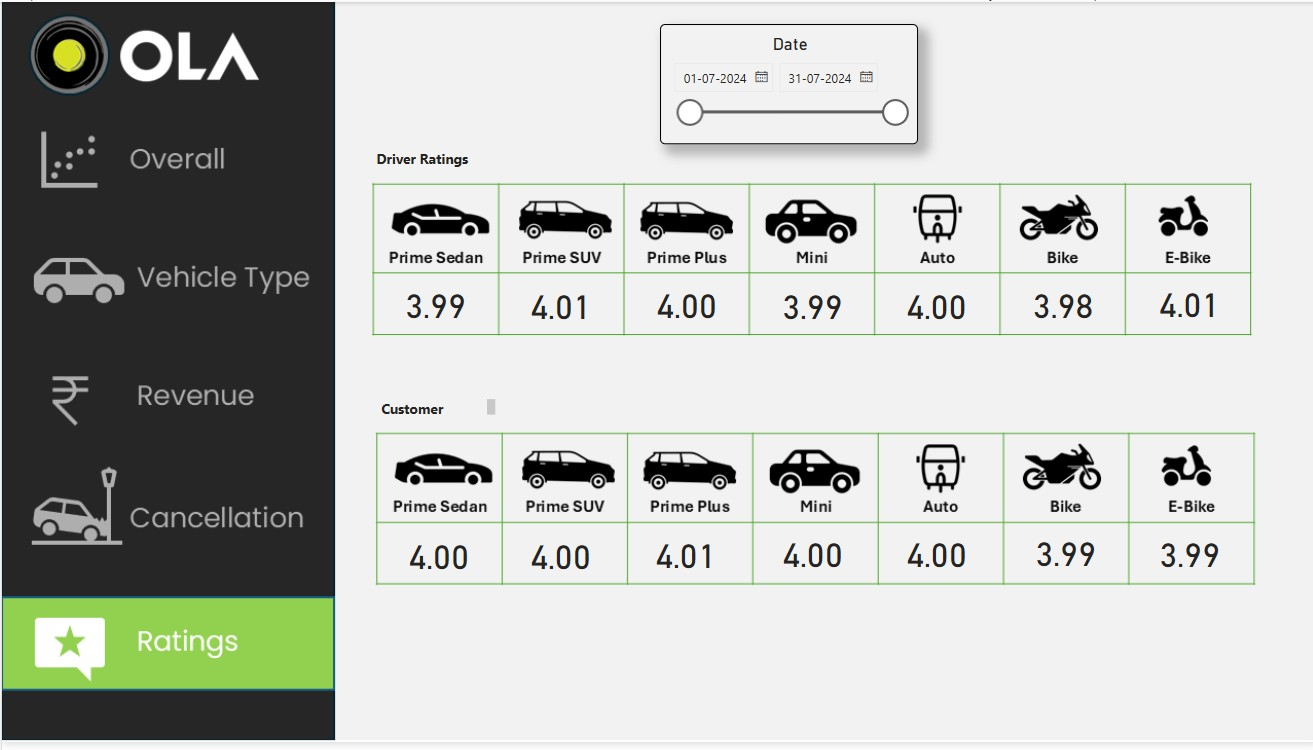

The page's visual inventory and layout, read from the dashboard file:
{"tool":"powerbi","page":{"name":"Ratings","canvas":[1280,720],"ordinal":4},"visuals":[{"type":"actionButton","box":[0,208.9,322.2,112.2],"z":0},{"type":"actionButton","box":[0,332.2,322.2,112.2],"z":1000},{"type":"actionButton","box":[0,444.4,322.2,111.1],"z":2000},{"type":"actionButton","box":[0,97.8,322.2,111.1],"z":3000},{"type":"card","fields":{"Values":["Avg(July.Driver_Ratings)"]},"box":[364.2,265,115.8,57.5],"z":4000},{"type":"card","fields":{"Values":["Avg(July.Driver_Ratings)"]},"box":[485.3,266.3,115.8,56.3],"z":5000},{"type":"card","fields":{"Values":["Avg(July.Driver_Ratings)"]},"box":[607.5,265,115.8,56.7],"z":6000},{"type":"card","fields":{"Values":["Avg(July.Driver_Ratings)"]},"box":[730,266.2,115.6,56.2],"z":7000},{"type":"card","fields":{"Values":["Avg(July.Driver_Ratings)"]},"box":[851.2,265.6,115.6,56.9],"z":8000},{"type":"card","fields":{"Values":["Avg(July.Driver_Ratings)"]},"box":[975,265,115,57],"z":9000},{"type":"card","fields":{"Values":["Avg(July.Driver_Ratings)"]},"box":[1097,264,115,57],"z":10000},{"type":"textbox","box":[359,138,121,30],"z":11000},{"type":"textbox","box":[364,381,121,30],"z":12000},{"type":"card","fields":{"Values":["Avg(July.Customer_Rating)"]},"box":[366.2,508.8,116.2,57.5],"z":13000},{"type":"card","fields":{"Values":["Avg(July.Customer_Rating)"]},"box":[485.7,508.6,115.7,57.1],"z":14000},{"type":"card","fields":{"Values":["Avg(July.Customer_Rating)"]},"box":[607.1,508.6,115.7,55.7],"z":14001},{"type":"card","fields":{"Values":["Avg(July.Customer_Rating)"]},"box":[730,507.1,115.7,57.1],"z":14002},{"type":"card","fields":{"Values":["Avg(July.Customer_Rating)"]},"box":[851.4,507.1,115.7,57.1],"z":14003},{"type":"card","fields":{"Values":["Avg(July.Customer_Rating)"]},"box":[977.1,507.1,114.3,55.7],"z":14004},{"type":"card","fields":{"Values":["Avg(July.Customer_Rating)"]},"box":[1098.6,507.1,114.3,57.1],"z":14005},{"type":"slicer","title":"Date","fields":{"Values":["July.Date"]},"box":[640,21.4,251.4,117.1],"z":14006}]}

Visuals, with their boxes on the page's 1280x720 design canvas (x1, y1, x2, y2). These are canvas units, not pixel positions in the 1313x750 screenshot, which may show the page scaled, cropped or inside an application window:
actionButton: <box>0,209,322,321</box>
actionButton: <box>0,332,322,444</box>
actionButton: <box>0,444,322,556</box>
actionButton: <box>0,98,322,209</box>
card - Avg(July.Driver_Ratings): <box>364,265,480,322</box>
card - Avg(July.Driver_Ratings): <box>485,266,601,323</box>
card - Avg(July.Driver_Ratings): <box>608,265,723,322</box>
card - Avg(July.Driver_Ratings): <box>730,266,846,322</box>
card - Avg(July.Driver_Ratings): <box>851,266,967,322</box>
card - Avg(July.Driver_Ratings): <box>975,265,1090,322</box>
card - Avg(July.Driver_Ratings): <box>1097,264,1212,321</box>
textbox: <box>359,138,480,168</box>
textbox: <box>364,381,485,411</box>
card - Avg(July.Customer_Rating): <box>366,509,482,566</box>
card - Avg(July.Customer_Rating): <box>486,509,601,566</box>
card - Avg(July.Customer_Rating): <box>607,509,723,564</box>
card - Avg(July.Customer_Rating): <box>730,507,846,564</box>
card - Avg(July.Customer_Rating): <box>851,507,967,564</box>
card - Avg(July.Customer_Rating): <box>977,507,1091,563</box>
card - Avg(July.Customer_Rating): <box>1099,507,1213,564</box>
"Date" slicer: <box>640,21,891,138</box>
